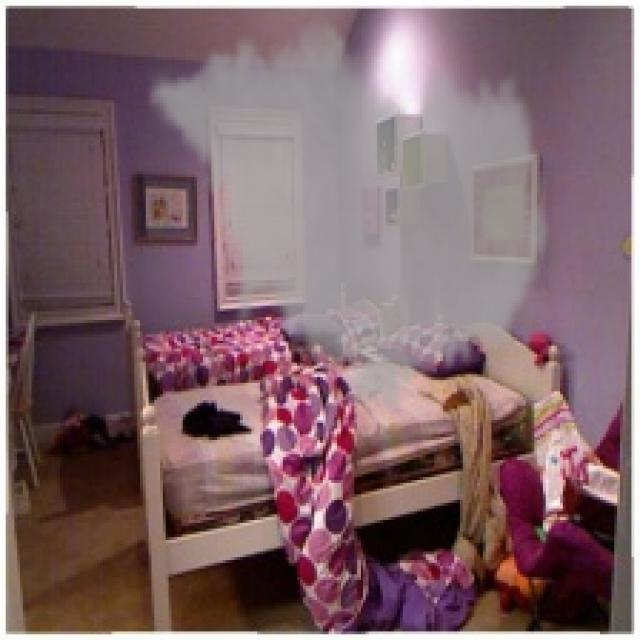smoke: (146, 9, 554, 420)
